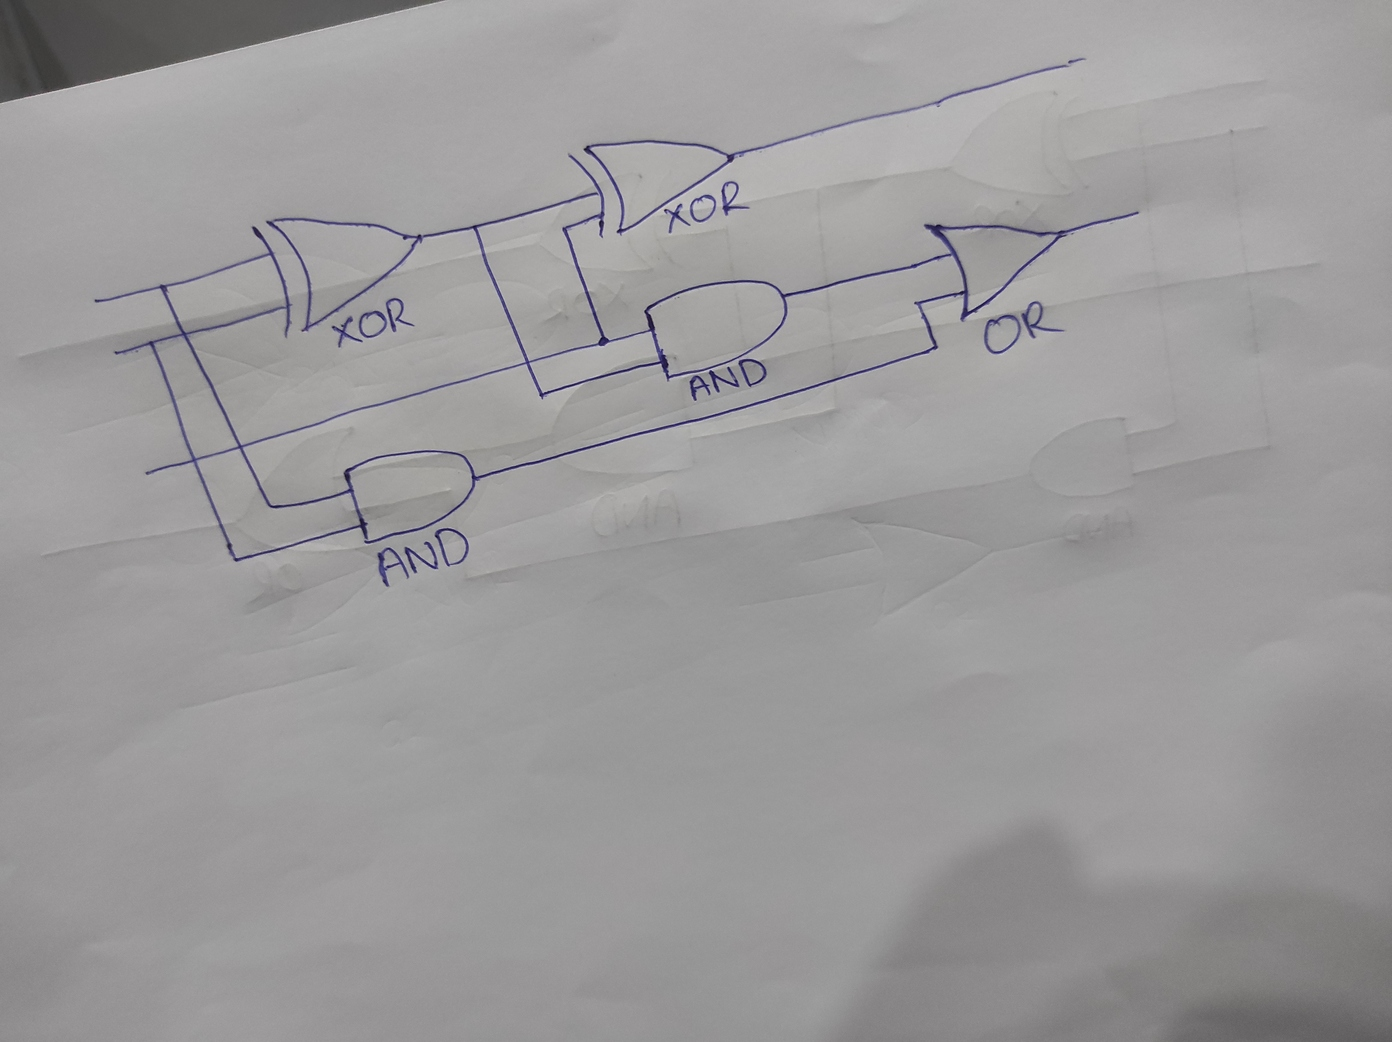and: (641, 275, 791, 383), (343, 448, 482, 545)
crossover: (517, 350, 544, 374), (185, 448, 207, 468), (230, 437, 253, 456), (173, 325, 196, 341)
junction: (223, 546, 248, 568), (923, 337, 944, 358), (530, 384, 552, 404), (910, 294, 929, 314), (465, 217, 484, 235), (260, 498, 280, 514), (593, 333, 612, 349), (144, 335, 160, 350), (558, 222, 572, 239), (154, 280, 171, 294)
or: (920, 220, 1066, 322)
terminal: (1059, 51, 1092, 71), (85, 293, 106, 310), (1124, 207, 1145, 222), (138, 465, 156, 479), (111, 346, 121, 359)
text: (374, 526, 472, 589), (662, 178, 754, 235), (981, 300, 1066, 356), (683, 356, 767, 400), (332, 296, 411, 341)
xor: (247, 215, 428, 341), (564, 136, 739, 240)
